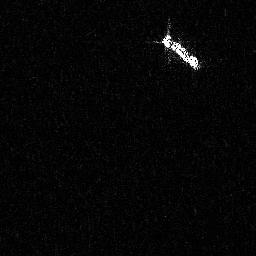ship: (156, 23, 201, 71)
